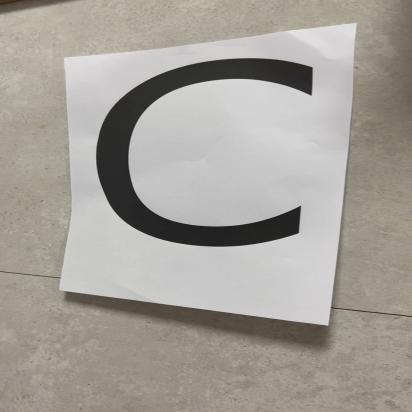seat: (72, 58, 346, 298)
